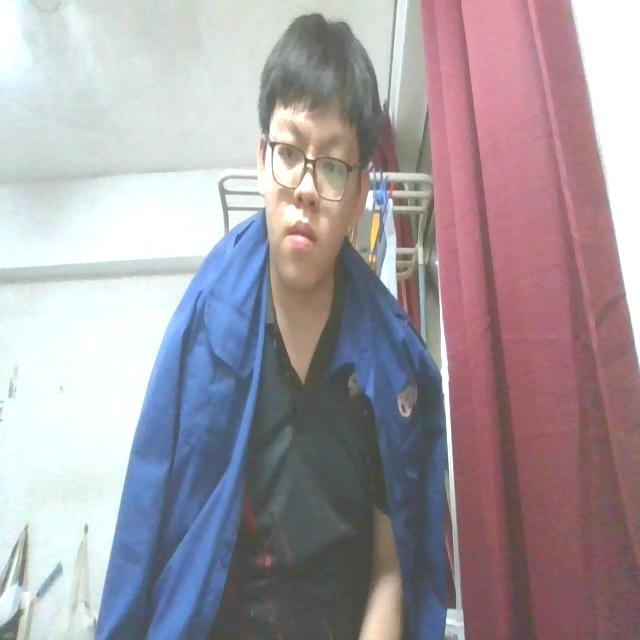person_without_labcoat: (97, 15, 445, 639)
